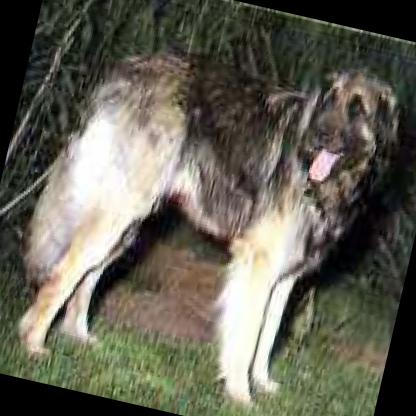Leonberg: (0, 2, 411, 416)
